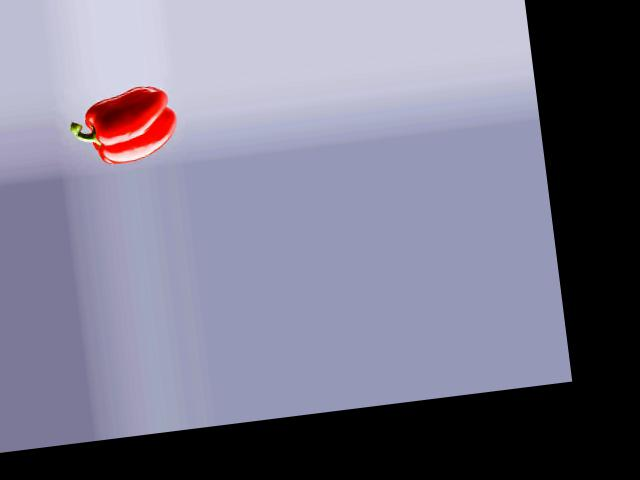bell_pepper: (65, 82, 178, 172)
